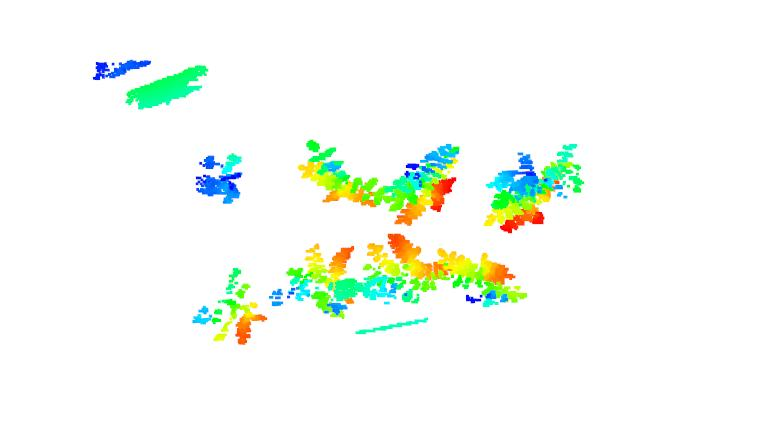chickpea: (483, 142, 585, 231), (382, 140, 464, 223), (278, 240, 359, 320), (364, 229, 444, 305), (439, 243, 531, 309), (191, 267, 264, 346), (302, 138, 377, 209), (190, 149, 246, 206)
